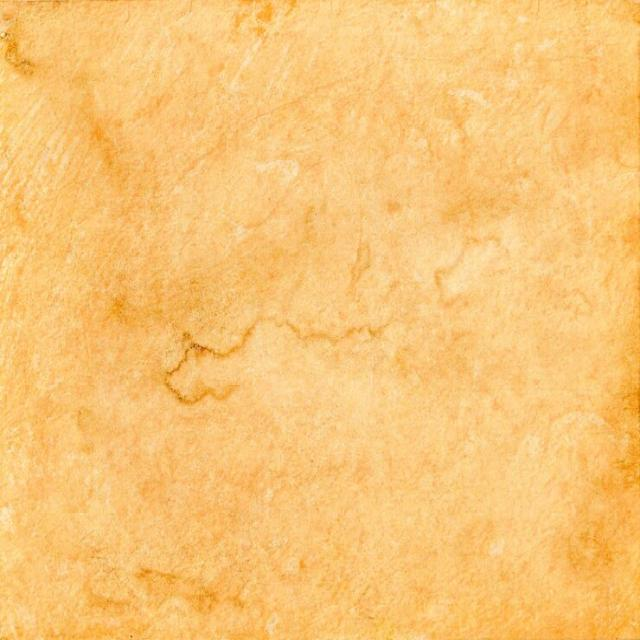Bacterial Injury: (160, 299, 399, 419)
